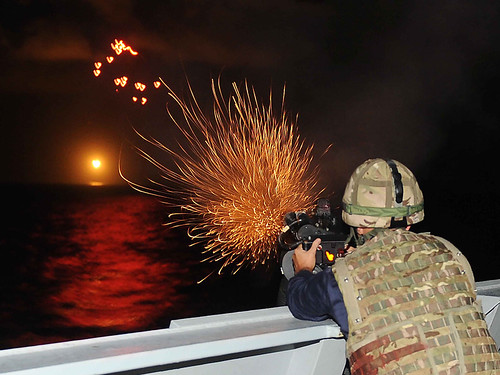sky: (19, 1, 498, 173)
soldier: (302, 170, 500, 375)
sun: (87, 152, 108, 173)
weapon: (264, 205, 351, 286)
